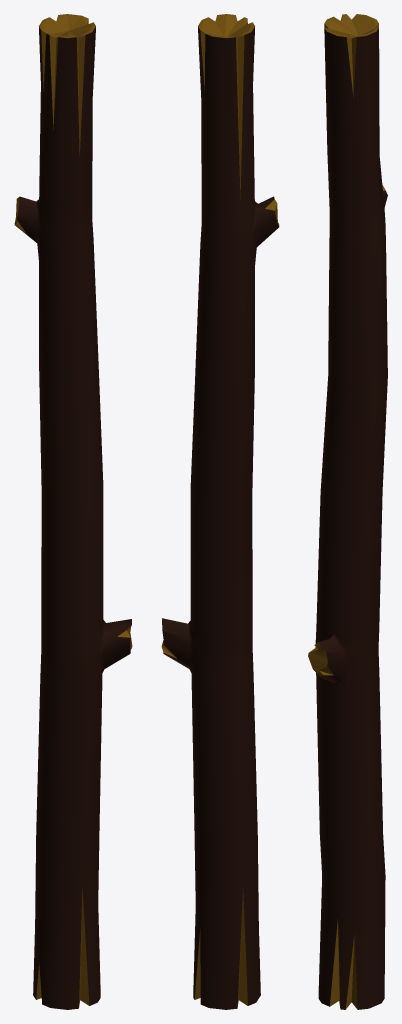
Rendered from stick.fbx.
3 renders of one model, left to right at view 1: azimuth 30°, elevation 25°; view 2: azimuth 210°, elevation 25°; view 3: azimuth 270°, elevation 25°, orthographic.
Parts seen in each view (by area): view 1: pCylinder3; view 2: pCylinder3; view 3: pCylinder3.
Part boxes in pixels (x1,y1,x2,y2): pCylinder3: (14,14,132,1009); pCylinder3: (161,14,279,1009); pCylinder3: (308,14,387,1009).
Bounding box in the file's own units: 8.03 × 80.17 × 5.99.
